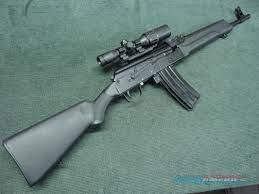larga: (2, 5, 252, 187)
